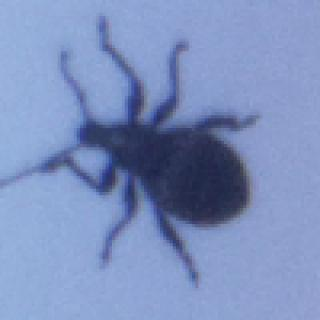bvw: (4, 17, 260, 292)
